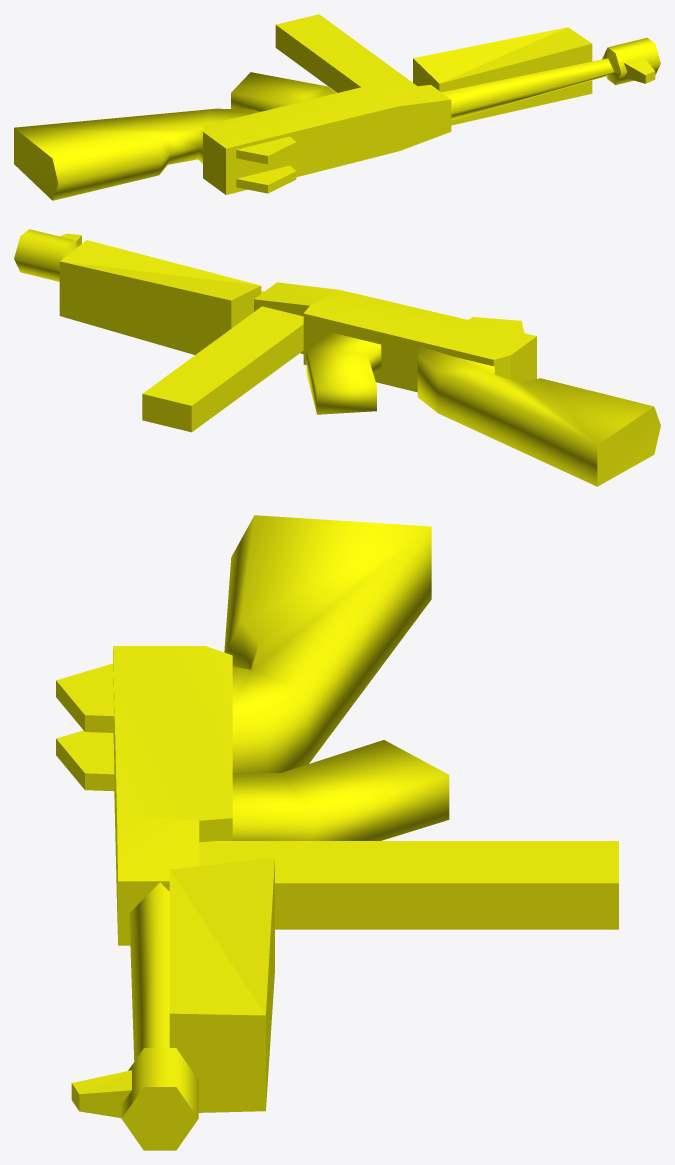
Rendered from weapon_thompson.glb.
3 views of the same model, one above another, from view 1: azimuth 30°, elevation 25°; view 2: azimuth 150°, elevation 25°; view 3: azimuth 270°, elevation 25° (orthographic). The views are drawn at different scales.
Parts seen in each view (by area): view 1: weapon_thompson; view 2: weapon_thompson; view 3: weapon_thompson.
Boxes of the visible parts, x1,y1,x2,y2 form: weapon_thompson: (14,14,660,200); weapon_thompson: (14,229,660,486); weapon_thompson: (56,515,618,1150).
Size of the model in its own units: 1.5 by 0.1418 by 0.6345.
1 material, 1 textured.
